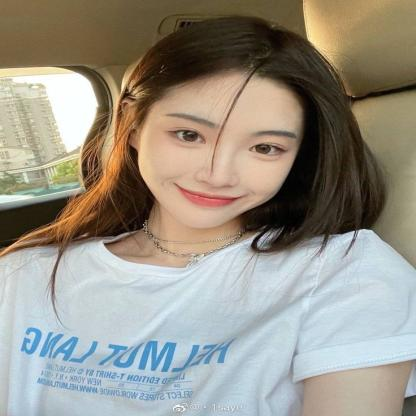person: (107, 18, 352, 223)
